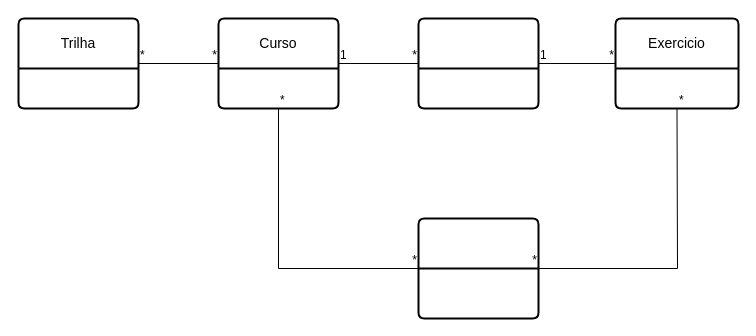
Image size: 756x336. Some labels were removed from this diagram. Each missing label, with the centre of its shape:
Capitulo: the point at 478,63
Usuario: the point at 478,268
